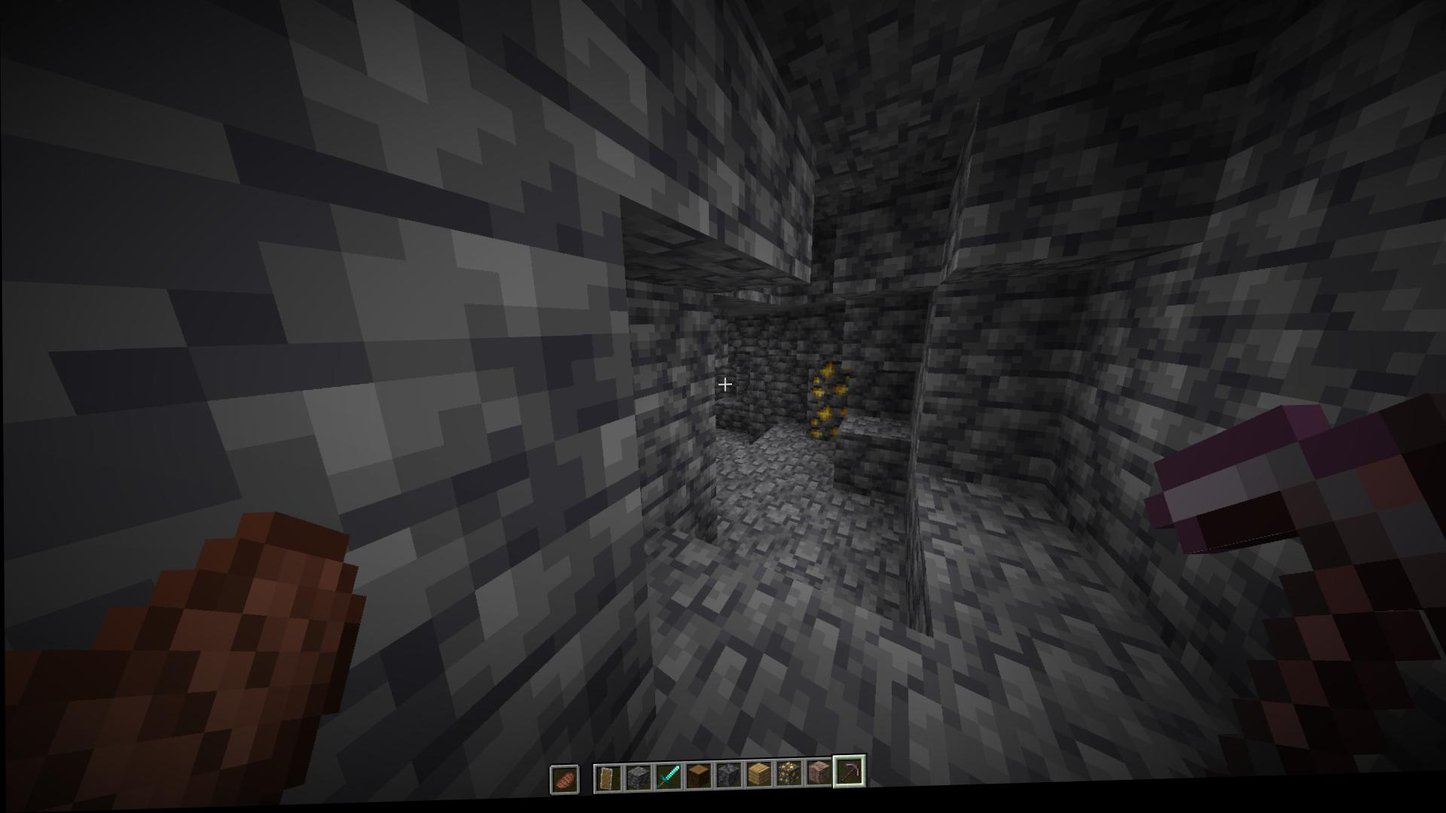gold ore: (807, 363, 849, 412), (804, 409, 845, 446)
